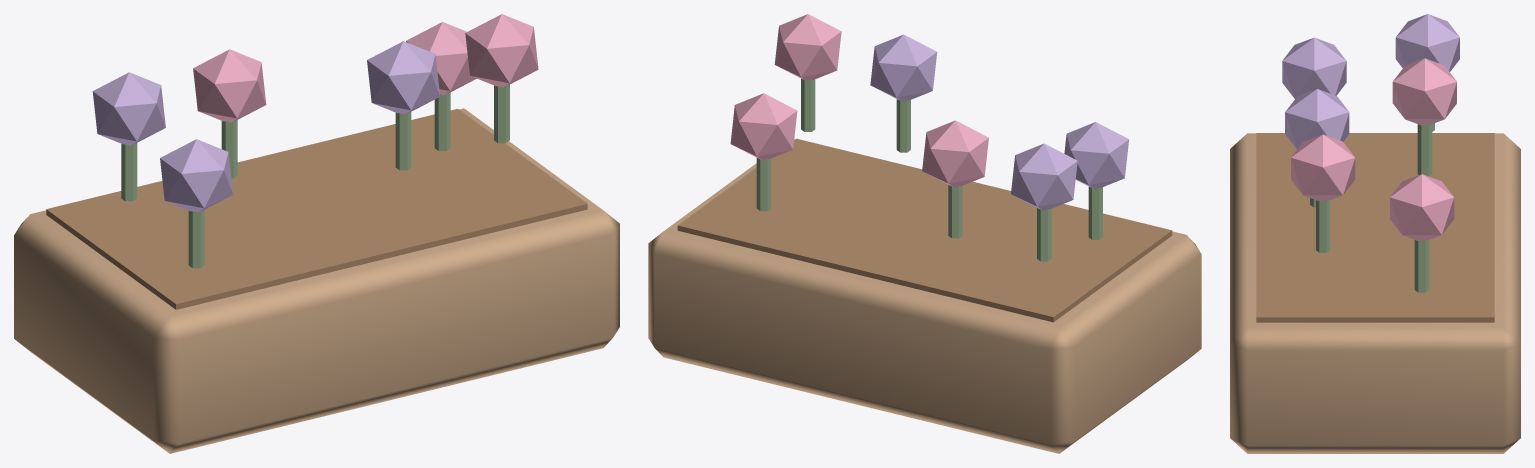
File: flower-planter.glb
3 views of the same model, side by side, from view 1: azimuth 30°, elevation 25°; view 2: azimuth 150°, elevation 25°; view 3: azimuth 270°, elevation 25° (orthographic). The views are drawn at different scales.
Parts seen in each view (by area): view 1: Planter, Soil, Flower blossom.001, Flower blossom, Flower blossom.004, Flower blossom.005, Flower blossom.002, Flower blossom.003, Flower stem, Flower stem.002, Flower stem.004, Flower stem.003 (+2 smaller); view 2: Planter, Soil, Flower blossom.004, Flower blossom.001, Flower blossom.002, Flower blossom.003, Flower blossom.005, Flower blossom, Flower stem.003, Flower stem.001, Flower stem.002, Flower stem.004 (+2 smaller); view 3: Planter, Soil, Flower blossom.003, Flower blossom.001, Flower blossom.005, Flower blossom, Flower blossom.002, Flower blossom.004, Flower stem.003, Flower stem.001, Flower stem.005.
Boxes of the visible parts, x1,y1,x2,y2 form: Planter: (14,108,619,453); Soil: (46,108,587,309); Flower blossom.001: (193,49,266,122); Flower blossom: (160,139,233,212); Flower blossom.004: (92,72,165,145); Flower blossom.005: (465,14,538,87); Flower blossom.002: (367,41,439,114); Flower blossom.003: (406,22,476,95); Flower stem: (188,210,204,268); Flower stem.002: (395,112,411,170); Flower stem.004: (121,143,137,201); Flower stem.003: (434,92,450,150); Planter: (648,139,1201,453); Soil: (677,138,1172,322); Flower blossom.004: (1011,143,1077,210); Flower blossom.001: (922,120,988,187); Flower blossom.002: (870,34,937,101); Flower blossom.003: (730,93,797,160); Flower blossom.005: (774,14,841,80); Flower blossom: (1064,122,1128,188); Flower stem.003: (756,158,771,211); Flower stem.001: (948,185,962,238); Flower stem.002: (896,99,910,152); Flower stem.004: (1037,208,1051,261); Planter: (1230,133,1520,453); Soil: (1256,133,1494,322); Flower blossom.003: (1390,174,1454,240); Flower blossom.001: (1392,58,1456,124); Flower blossom.005: (1291,134,1355,201); Flower blossom: (1282,37,1346,98); Flower blossom.002: (1285,89,1349,149); Flower blossom.004: (1395,14,1459,71); Flower stem.003: (1414,240,1429,292); Flower stem.001: (1417,124,1432,176); Flower stem.005: (1316,200,1330,252).
Bounding box in the file's own units: 1.7 × 1.11 × 1.
